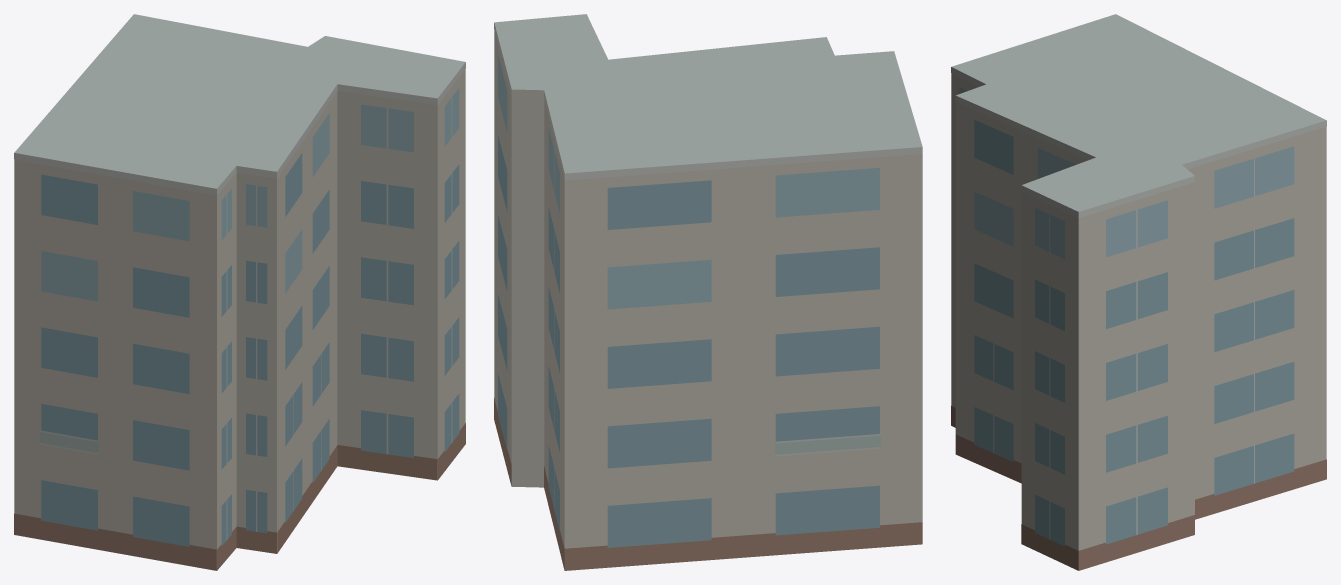
File: survey-upis-32502252.glb
3 renders of one model, left to right at view 1: azimuth 30°, elevation 25°; view 2: azimuth 150°, elevation 25°; view 3: azimuth 270°, elevation 25°, orthographic. The views are drawn at different scales.
Parts seen in each view (by area): view 1: survey-upis-32502252.tmp; view 2: survey-upis-32502252.tmp; view 3: survey-upis-32502252.tmp.
Boxes of the visible parts, box(x1,y1,x2,y2) form: survey-upis-32502252.tmp: box(14, 14, 465, 570); survey-upis-32502252.tmp: box(494, 14, 922, 570); survey-upis-32502252.tmp: box(951, 14, 1326, 570).
Bounding box in the file's own units: 16.64 × 14.06 × 13.34.
